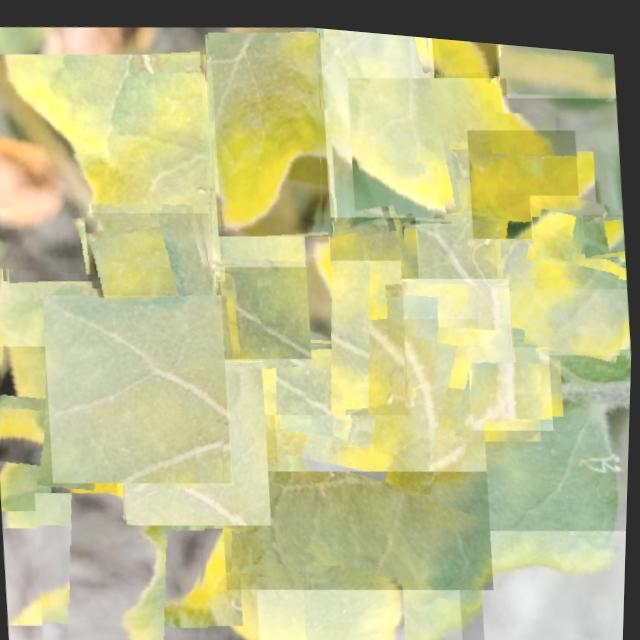leaf_spot: (0, 35, 229, 296), (265, 295, 496, 535), (219, 443, 498, 604), (38, 278, 238, 494), (250, 493, 470, 640), (310, 22, 461, 228), (242, 242, 414, 420), (114, 346, 277, 533), (343, 57, 518, 230), (32, 477, 217, 640), (201, 18, 336, 239), (191, 196, 339, 351), (0, 336, 124, 519), (492, 207, 635, 354), (476, 507, 629, 640), (81, 200, 218, 343), (383, 261, 519, 402), (464, 112, 584, 237), (306, 202, 424, 325), (527, 177, 630, 285), (212, 255, 314, 361), (465, 331, 556, 427), (496, 35, 617, 96), (428, 30, 498, 80), (581, 200, 627, 250)
